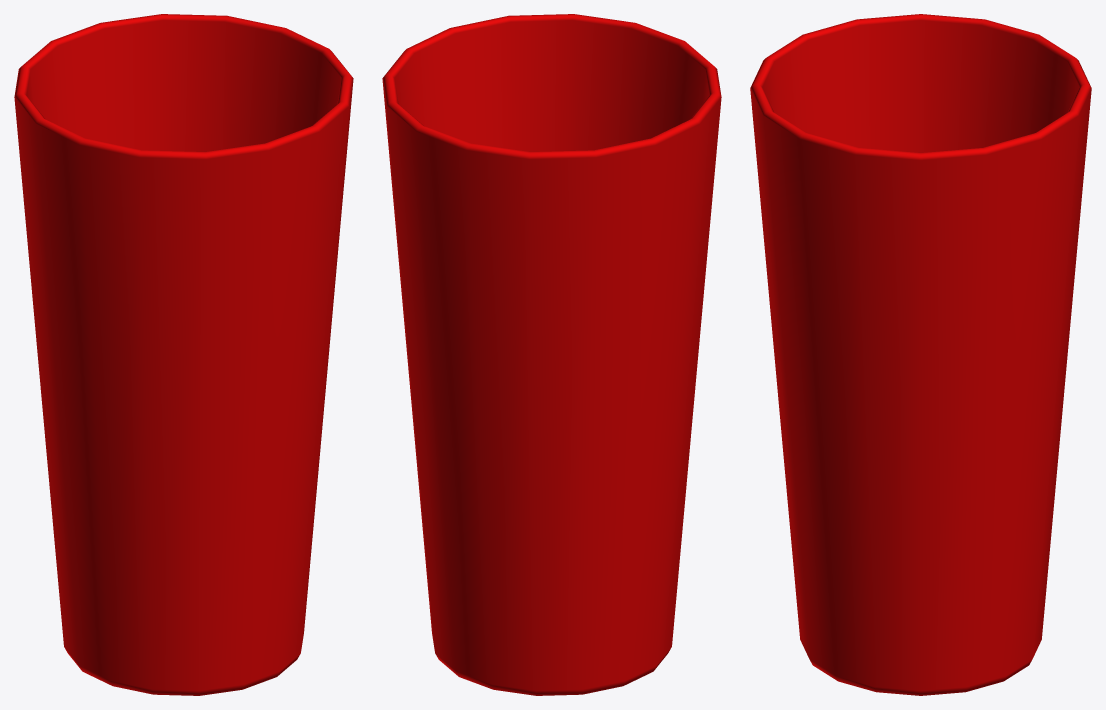
Rendered from RoboTHOR_cups_grp.fbx.
3 views of the same model, side by side, from view 1: azimuth 30°, elevation 25°; view 2: azimuth 150°, elevation 25°; view 3: azimuth 270°, elevation 25° (orthographic).
Parts seen in each view (by area): view 1: robothor_cup_ai2; view 2: robothor_cup_ai2; view 3: robothor_cup_ai2.
Part boxes in pixels (x1,y1,x2,y2): robothor_cup_ai2: (14, 14, 353, 695); robothor_cup_ai2: (382, 14, 721, 695); robothor_cup_ai2: (750, 14, 1091, 695).
Bounding box in the file's own units: 8.5 × 15.52 × 8.5.
